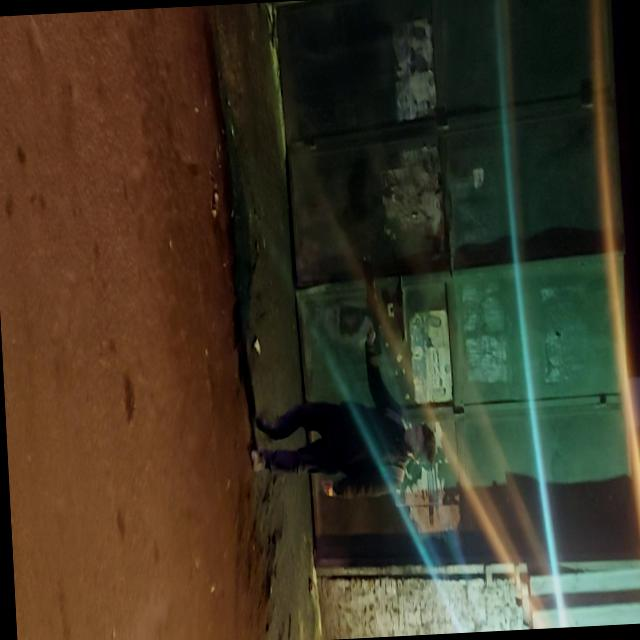long weapon: (345, 224, 397, 384)
